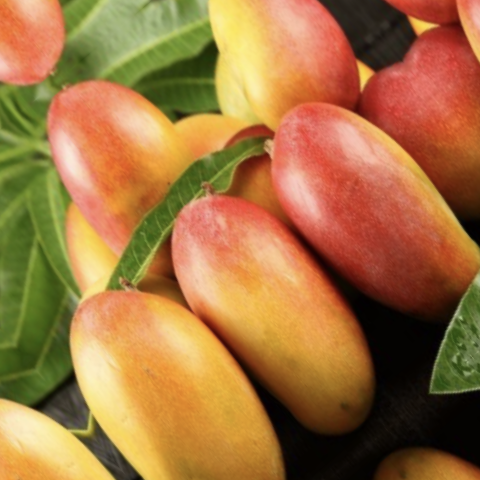mango: (210, 40, 480, 381), (137, 159, 430, 467), (11, 227, 337, 480), (0, 32, 258, 300)
